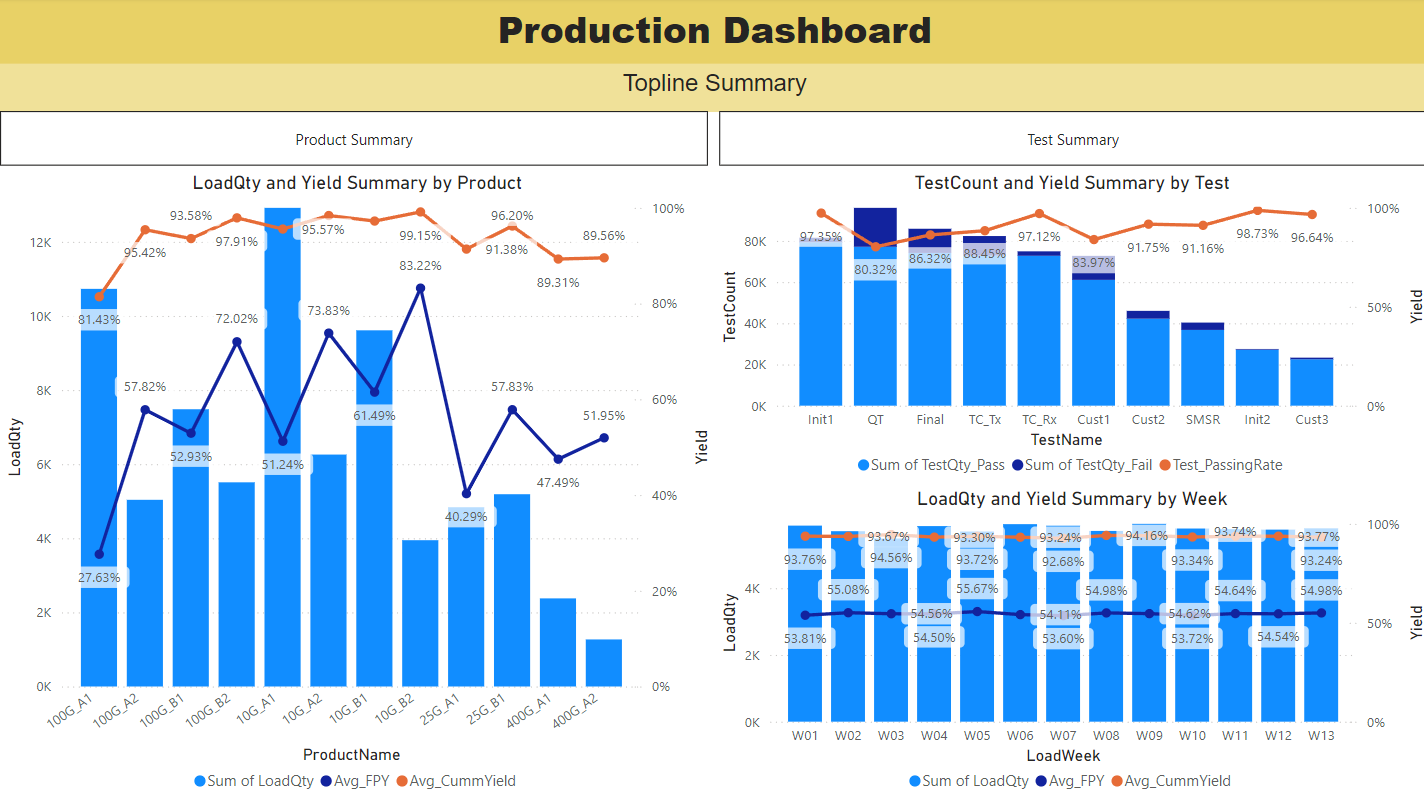

The page's visual inventory and layout, read from the dashboard file:
{"tool":"powerbi","page":{"name":"Topline Summary","canvas":[1280,720],"ordinal":0},"visuals":[{"type":"lineClusteredColumnComboChart","title":"LoadQty and Yield Summary by Week","fields":{"Y":["Sum(dbo summary_prod.LoadQty)"],"Y2":["dbo summary_prod.Avg_FPY","dbo summary_prod.Avg_CummYield"],"Category":["dbo summary_prod.LoadWeek"]},"box":[639.9,437.5,639.9,282.5],"z":0},{"type":"textbox","box":[0,0,1280,59.4],"z":1000},{"type":"textbox","box":[0,59.4,1280,42.5],"z":2000},{"type":"lineClusteredColumnComboChart","title":"LoadQty and Yield Summary by Product","fields":{"Y":["Sum(dbo summary_prod.LoadQty)"],"Y2":["dbo summary_prod.Avg_FPY","dbo summary_prod.Avg_CummYield"],"Category":["dbo summary_prod.ProductName"]},"box":[0,155,639.9,565],"z":3000},{"type":"pageNavigator","box":[0,101.6,1279.8,50],"z":4000},{"type":"lineStackedColumnComboChart","title":"TestCount and Yield Summary by Test","fields":{"Category":["dbo summary_prod_test.TestName"],"Y2":["dbo summary_prod_test.Test_PassingRate"],"Y":["Sum(dbo summary_prod_test.TestQty_Pass)","Sum(dbo summary_prod_test.TestQty_Fail)"]},"box":[639.9,155,639.9,282.5],"z":5000}]}

Visuals, with their boxes in screenshot pixels (x1, y1, x2, y2), scaled from the page's 1280x720 canvas onto the 1424x793 screenshot:
"LoadQty and Yield Summary by Week" lineClusteredColumnComboChart: 712,482,1423,792
textbox: 0,0,1423,65
textbox: 0,65,1423,112
"LoadQty and Yield Summary by Product" lineClusteredColumnComboChart: 0,171,712,792
pageNavigator: 0,112,1423,167
"TestCount and Yield Summary by Test" lineStackedColumnComboChart: 712,171,1423,482
